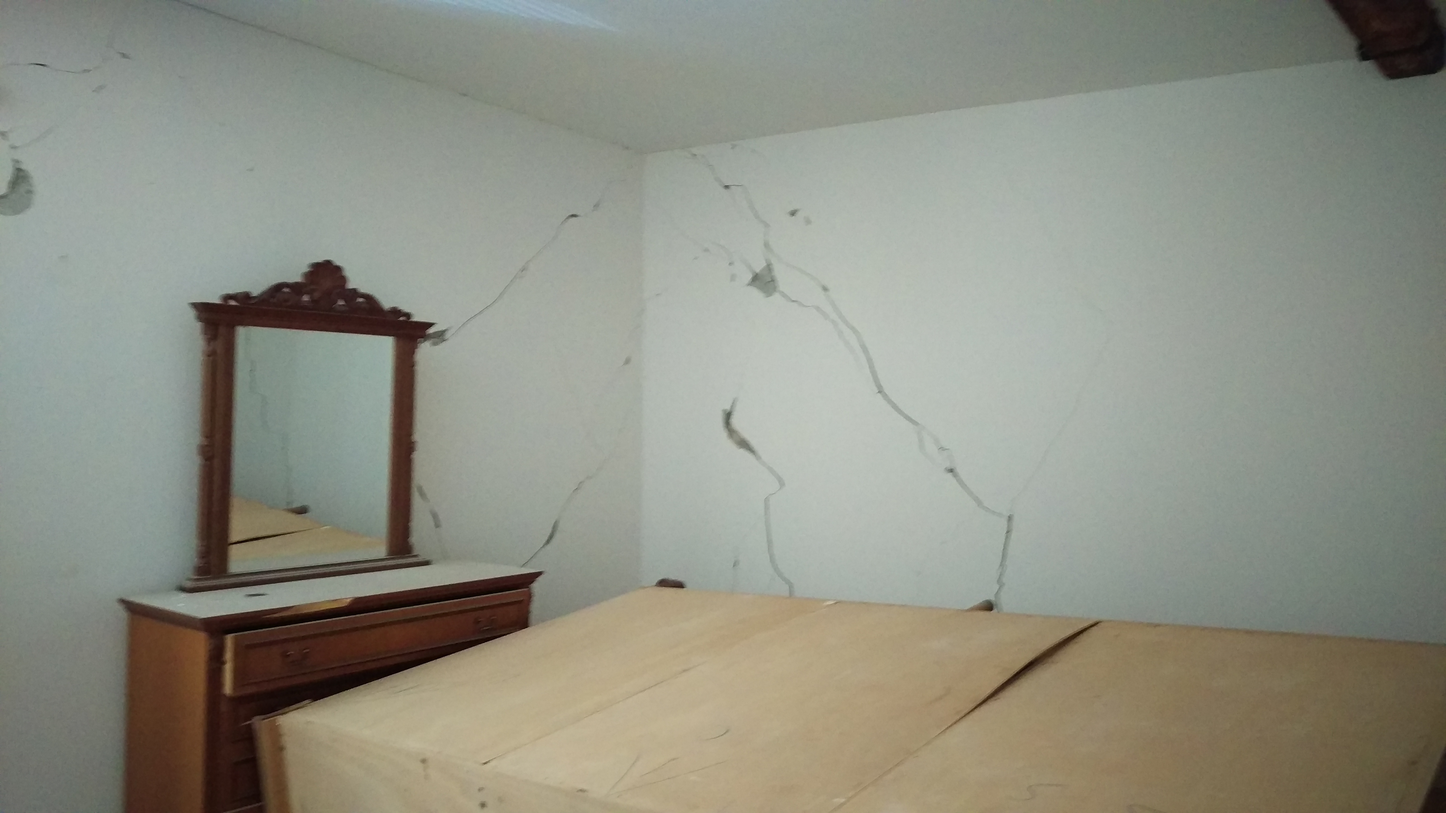Crack: (6, 1, 644, 644), (647, 136, 1175, 626)
